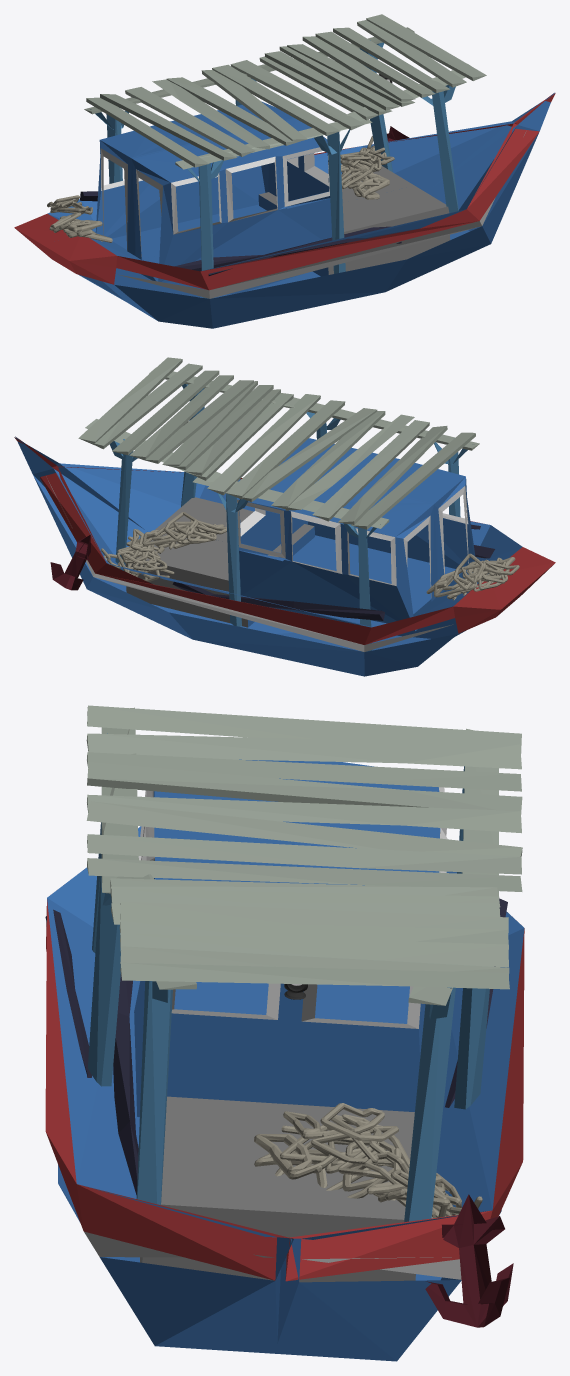
File: ghe-bien.glb
3 views of the same model, one above another, from view 1: azimuth 30°, elevation 25°; view 2: azimuth 150°, elevation 25°; view 3: azimuth 270°, elevation 25° (orthographic). The views are drawn at different scales.
Parts seen in each view (by area): view 1: Vert_ghe_0, Vert_VIEN DO.001_0, Vert_vien trang.001_0, Vert_BAC GO.001_0, Cylinder.002_go cay_0, Cylinder.001_go cay_0, Cube.009_go dep_0, Cube.004_go dep_0, Cylinder_go cay_0, Cube.018_go dep_0, Cube.008_go dep_0, Cube.006_go dep_0 (+21 smaller); view 2: Vert_ghe_0, Vert_VIEN DO.001_0, Vert_BAC GO.001_0, Vert_vien trang.001_0, Cube.004_go dep_0, Cube.009_go dep_0, Cube.008_go dep_0, Cube.007_go dep_0, Cube.002_go dep_0, Cube.006_go dep_0, Cube.003_go dep_0, Cube.005_go dep_0 (+23 smaller); view 3: Vert_ghe_0, Vert_VIEN DO.001_0, Vert_BAC GO.001_0, Cylinder.002_go cay_0, Cube.003_go dep_0, Cube.005_go dep_0, Cube.008_go dep_0, Cube.002_go dep_0, Cube.007_go dep_0, Cylinder_go cay_0, Cube.006_go dep_0, Cube.016_go dep_0 (+20 smaller).
Boxes of the visible parts, box(x1,y1,x2,y2) form: Vert_ghe_0: box(47, 92, 554, 328); Vert_VIEN DO.001_0: box(14, 93, 555, 290); Vert_vien trang.001_0: box(100, 131, 526, 298); Vert_BAC GO.001_0: box(259, 166, 450, 274); Cylinder.002_go cay_0: box(359, 40, 458, 212); Cylinder.001_go cay_0: box(90, 109, 223, 298); Cube.009_go dep_0: box(230, 60, 364, 130); Cube.004_go dep_0: box(125, 87, 255, 156); Cylinder_go cay_0: box(235, 78, 350, 273); Cube.018_go dep_0: box(366, 14, 486, 80); Cube.008_go dep_0: box(212, 64, 340, 135); Cube.006_go dep_0: box(166, 77, 298, 145); Vert_ghe_0: box(15, 436, 522, 676); Vert_VIEN DO.001_0: box(14, 437, 555, 644); Vert_BAC GO.001_0: box(125, 497, 314, 627); Vert_vien trang.001_0: box(46, 476, 468, 651); Cube.004_go dep_0: box(312, 420, 429, 521); Cube.009_go dep_0: box(207, 394, 320, 495); Cube.008_go dep_0: box(226, 400, 345, 499); Cube.007_go dep_0: box(242, 408, 377, 502); Cube.002_go dep_0: box(351, 432, 475, 529); Cube.006_go dep_0: box(271, 411, 385, 509); Cube.003_go dep_0: box(338, 426, 447, 524); Cube.005_go dep_0: box(285, 414, 414, 510); Vert_ghe_0: box(47, 759, 524, 1361); Vert_VIEN DO.001_0: box(45, 899, 524, 1281); Vert_BAC GO.001_0: box(140, 1096, 415, 1282); Cylinder.002_go cay_0: box(136, 981, 455, 1222); Cube.003_go dep_0: box(86, 733, 521, 769); Cube.005_go dep_0: box(87, 762, 522, 814); Cube.008_go dep_0: box(87, 834, 521, 874); Cube.002_go dep_0: box(87, 705, 521, 753); Cube.007_go dep_0: box(86, 801, 522, 856); Cylinder_go cay_0: box(87, 876, 489, 1109); Cube.006_go dep_0: box(87, 794, 521, 833); Cube.016_go dep_0: box(120, 933, 508, 967).
Size of the model in its own units: 5.4 by 2 by 2.18.
